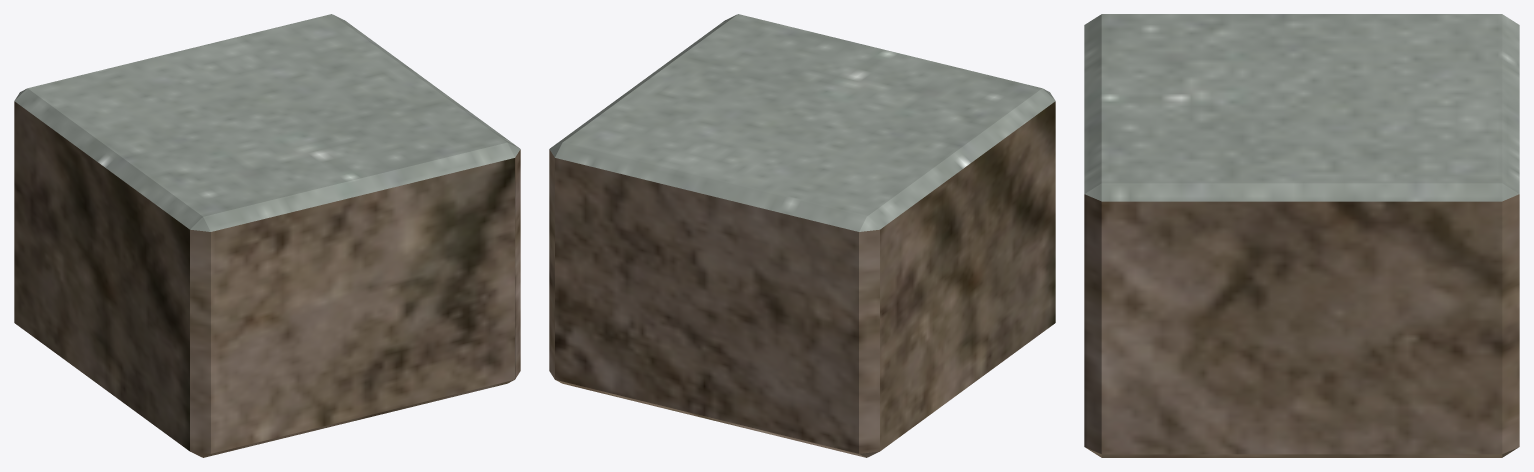
File: snowBlockBeveled.glb
The picture shows the model from 3 angles, left to right: view 1: azimuth 30°, elevation 25°; view 2: azimuth 150°, elevation 25°; view 3: azimuth 270°, elevation 25°; orthographic projection. The views are drawn at different scales.
Parts seen in each view (by area): view 1: Cube; view 2: Cube; view 3: Cube.
Boxes of the visible parts, x1,y1,x2,y2 form: Cube: (14,14,520,457); Cube: (549,14,1055,457); Cube: (1084,14,1519,457).
Size of the model in its own units: 2 by 1.39 by 2.
Materials: 2 (2 with a texture image).
